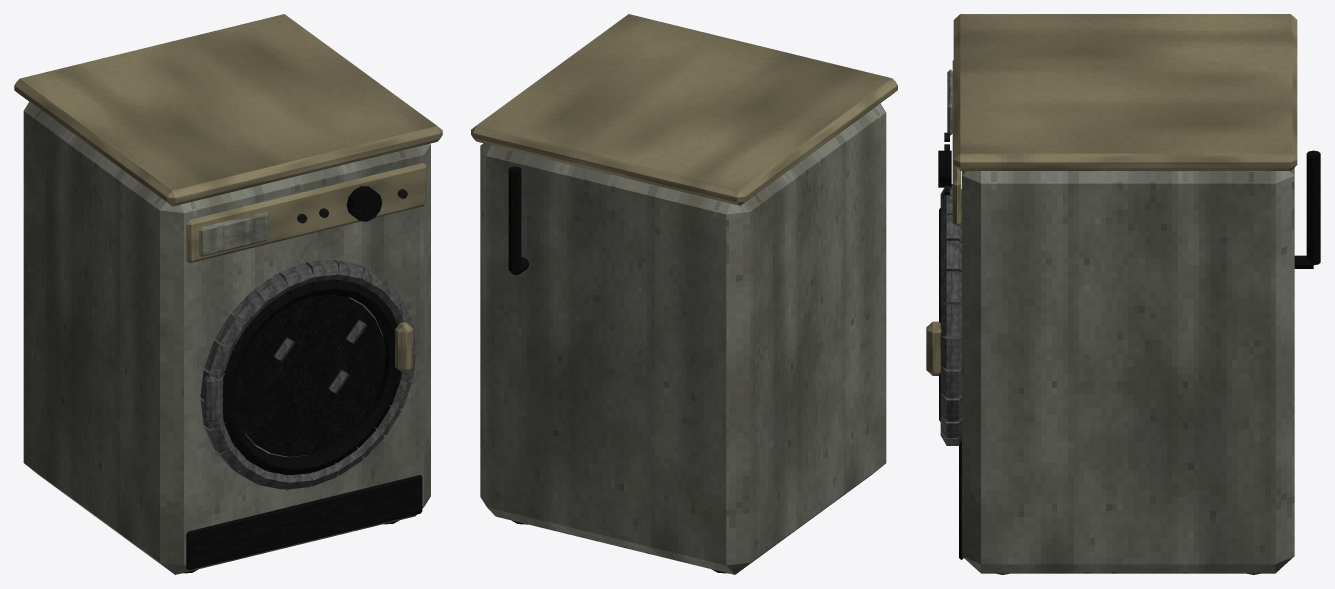
Rendered from level_laundry_washer_worn.glb.
The picture shows the model from 3 angles, left to right: view 1: azimuth 30°, elevation 25°; view 2: azimuth 150°, elevation 25°; view 3: azimuth 270°, elevation 25°; orthographic projection. The views are drawn at different scales.
Visible parts, largest first — view 1: level_laundry_washer_worn; view 2: level_laundry_washer_worn; view 3: level_laundry_washer_worn.
Boxes of the visible parts, bbox=[...] form: level_laundry_washer_worn: bbox=[14, 14, 442, 574]; level_laundry_washer_worn: bbox=[471, 14, 897, 574]; level_laundry_washer_worn: bbox=[926, 14, 1320, 574].
Bounding box in the file's own units: 0.63 × 0.8725 × 0.7235.
5 materials, 5 textured.
